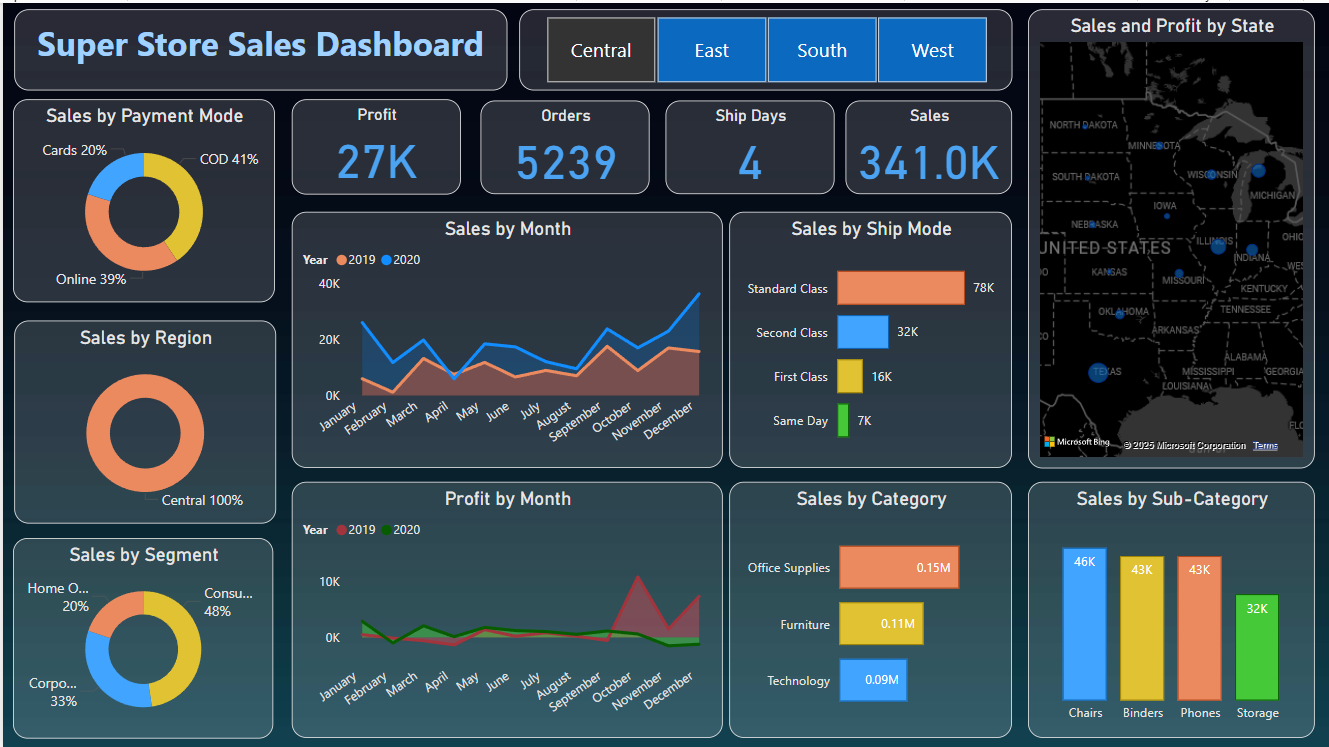

What the dashboard file says about the page in this screenshot:
{"tool":"powerbi","page":{"name":"Page 1","canvas":[1280,720],"ordinal":0},"visuals":[{"type":"clusteredBarChart","title":"Sales by Category","fields":{"Category":["Sheet1.Category"],"Y":["Sum(Sheet1.Sales)"]},"box":[701.2,462.4,273.1,247],"z":0},{"type":"clusteredColumnChart","title":"Sales by Sub-Category","fields":{"Category":["Sheet1.Sub-Category"],"Y":["Sum(Sheet1.Sales)"]},"box":[989.4,462.4,277.2,247],"z":1000},{"type":"clusteredBarChart","title":"Sales by Ship Mode","fields":{"Category":["Sheet1.Ship Mode"],"Y":["Sum(Sheet1.Sales)"]},"box":[701.2,201.7,273.1,247],"z":2000},{"type":"areaChart","title":"Sales by Month","fields":{"Series":["Sheet1.Order Date.Variation.Date Hierarchy.Year"],"Category":["Sheet1.Order Date.Variation.Date Hierarchy.Month","Sheet1.Order Date.Variation.Date Hierarchy.Day"],"Y":["Sum(Sheet1.Sales)"]},"box":[278.6,201.7,415.8,247],"z":3000},{"type":"areaChart","title":"Profit by Month ","fields":{"Category":["Sheet1.Order Date.Variation.Date Hierarchy.Month","Sheet1.Order Date.Variation.Date Hierarchy.Day"],"Y":["Sum(Sheet1.Profit)"],"Series":["Sheet1.Order Date.Variation.Date Hierarchy.Year"]},"box":[278.6,462.4,415.8,247],"z":4000},{"type":"map","title":"Sales and Profit by State","fields":{"Category":["Sheet1.State"],"Size":["Sum(Sheet1.Sales)"]},"box":[989.4,5.5,277.2,443.2],"z":5000},{"type":"donutChart","title":"Sales by Segment","fields":{"Category":["Sheet1.Segment"],"Y":["Sum(Sheet1.Sales)"]},"box":[9.6,516,251.1,193.5],"z":6000},{"type":"donutChart","title":"Sales by Payment Mode","fields":{"Category":["Sheet1.Payment Mode"],"Y":["Sum(Sheet1.Sales)"]},"box":[9.6,93.3,252.5,196.2],"z":7000},{"type":"donutChart","title":"Sales by Region","fields":{"Category":["Sheet1.Region"],"Y":["Sum(Sheet1.Sales)"]},"box":[11,306,252.5,196.2],"z":8000},{"type":"slicer","fields":{"Values":["Sheet1.Region"]},"box":[498.1,5.5,476.2,78.2],"z":9000},{"type":"textbox","box":[11,5.5,476.2,78.2],"z":10000},{"type":"card","title":"Sales","fields":{"Values":["Sum(Sheet1.Sales)"]},"box":[813.7,94.7,160.5,90.6],"z":11000},{"type":"card","title":"Orders","fields":{"Values":["Sum(Sheet1.Quantity)"]},"box":[461.1,94.7,163.3,90.6],"z":12000},{"type":"card","title":"Profit","fields":{"Values":["Sum(Sheet1.Profit)"]},"box":[278.6,93.3,163.3,91.9],"z":13000},{"type":"card","title":"Ship Days","fields":{"Values":["Avg(Sheet1.AvgDelivery)"]},"box":[639.5,94.7,163.3,90.6],"z":14000}]}

Visuals, with their boxes in screenshot pixels (x1, y1, x2, y2), scaled from the page's 1280x720 canvas onto the 1329x747 screenshot:
"Sales by Category" clusteredBarChart: bbox=(728, 480, 1012, 736)
"Sales by Sub-Category" clusteredColumnChart: bbox=(1027, 480, 1315, 736)
"Sales by Ship Mode" clusteredBarChart: bbox=(728, 209, 1012, 466)
"Sales by Month" areaChart: bbox=(289, 209, 721, 466)
"Profit by Month " areaChart: bbox=(289, 480, 721, 736)
"Sales and Profit by State" map: bbox=(1027, 6, 1315, 466)
"Sales by Segment" donutChart: bbox=(10, 535, 271, 736)
"Sales by Payment Mode" donutChart: bbox=(10, 97, 272, 300)
"Sales by Region" donutChart: bbox=(11, 317, 274, 521)
slicer - Sheet1.Region: bbox=(517, 6, 1012, 87)
textbox: bbox=(11, 6, 506, 87)
"Sales" card: bbox=(845, 98, 1011, 192)
"Orders" card: bbox=(479, 98, 648, 192)
"Profit" card: bbox=(289, 97, 459, 192)
"Ship Days" card: bbox=(664, 98, 834, 192)
